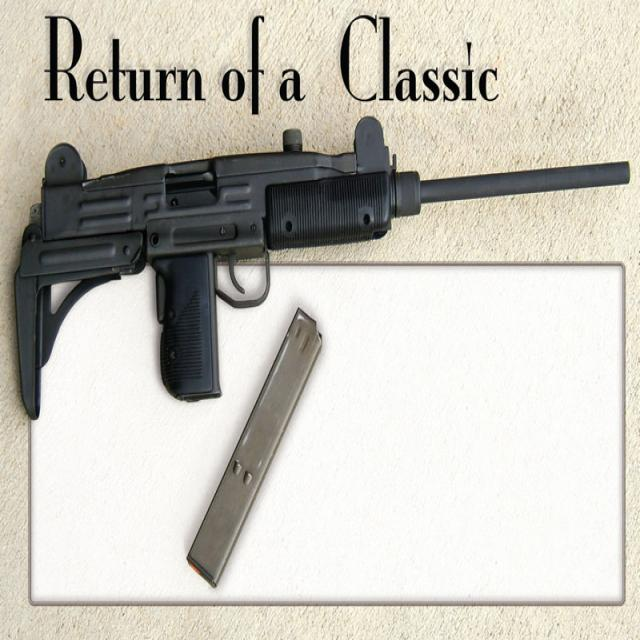SMG: (18, 120, 619, 415)
